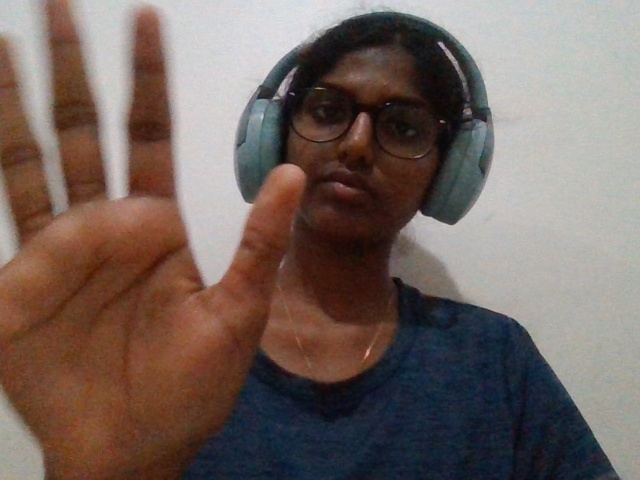Bye: (1, 1, 321, 471)
